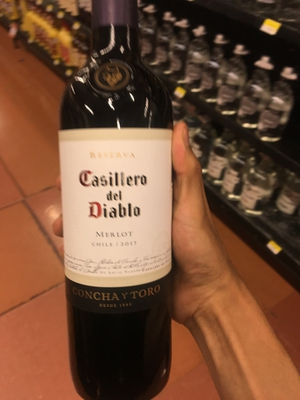casillero del diablo merlot: (54, 16, 187, 389)
